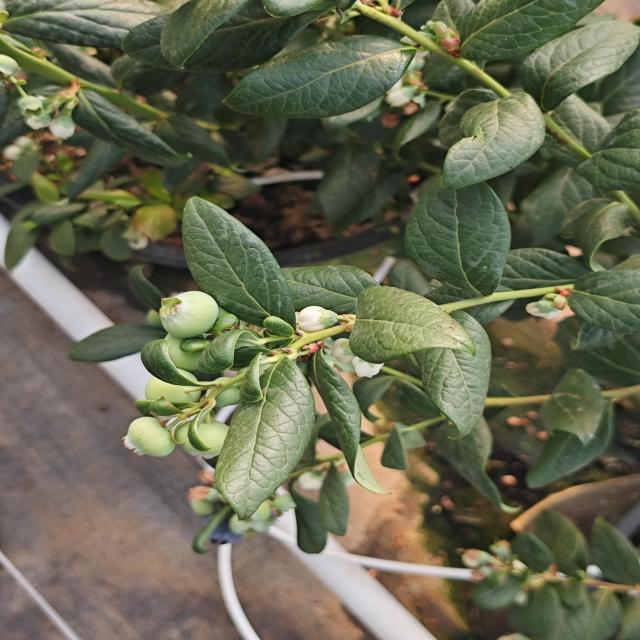ripe: (198, 510, 250, 551)
